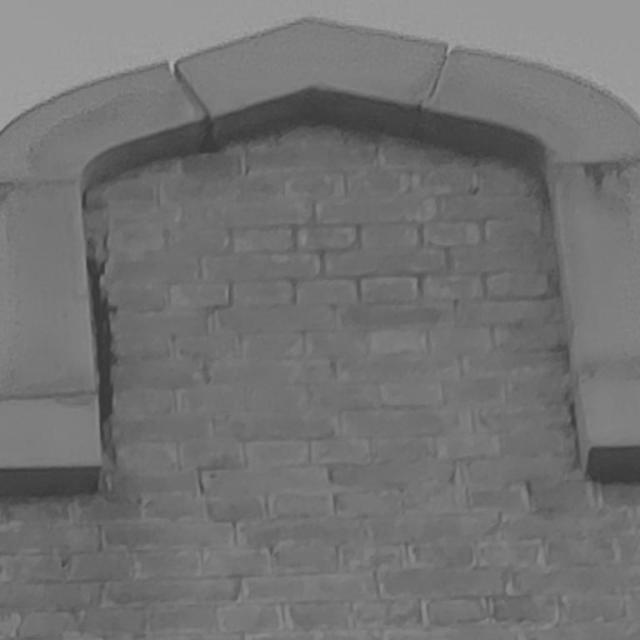crack: (85, 224, 118, 464)
